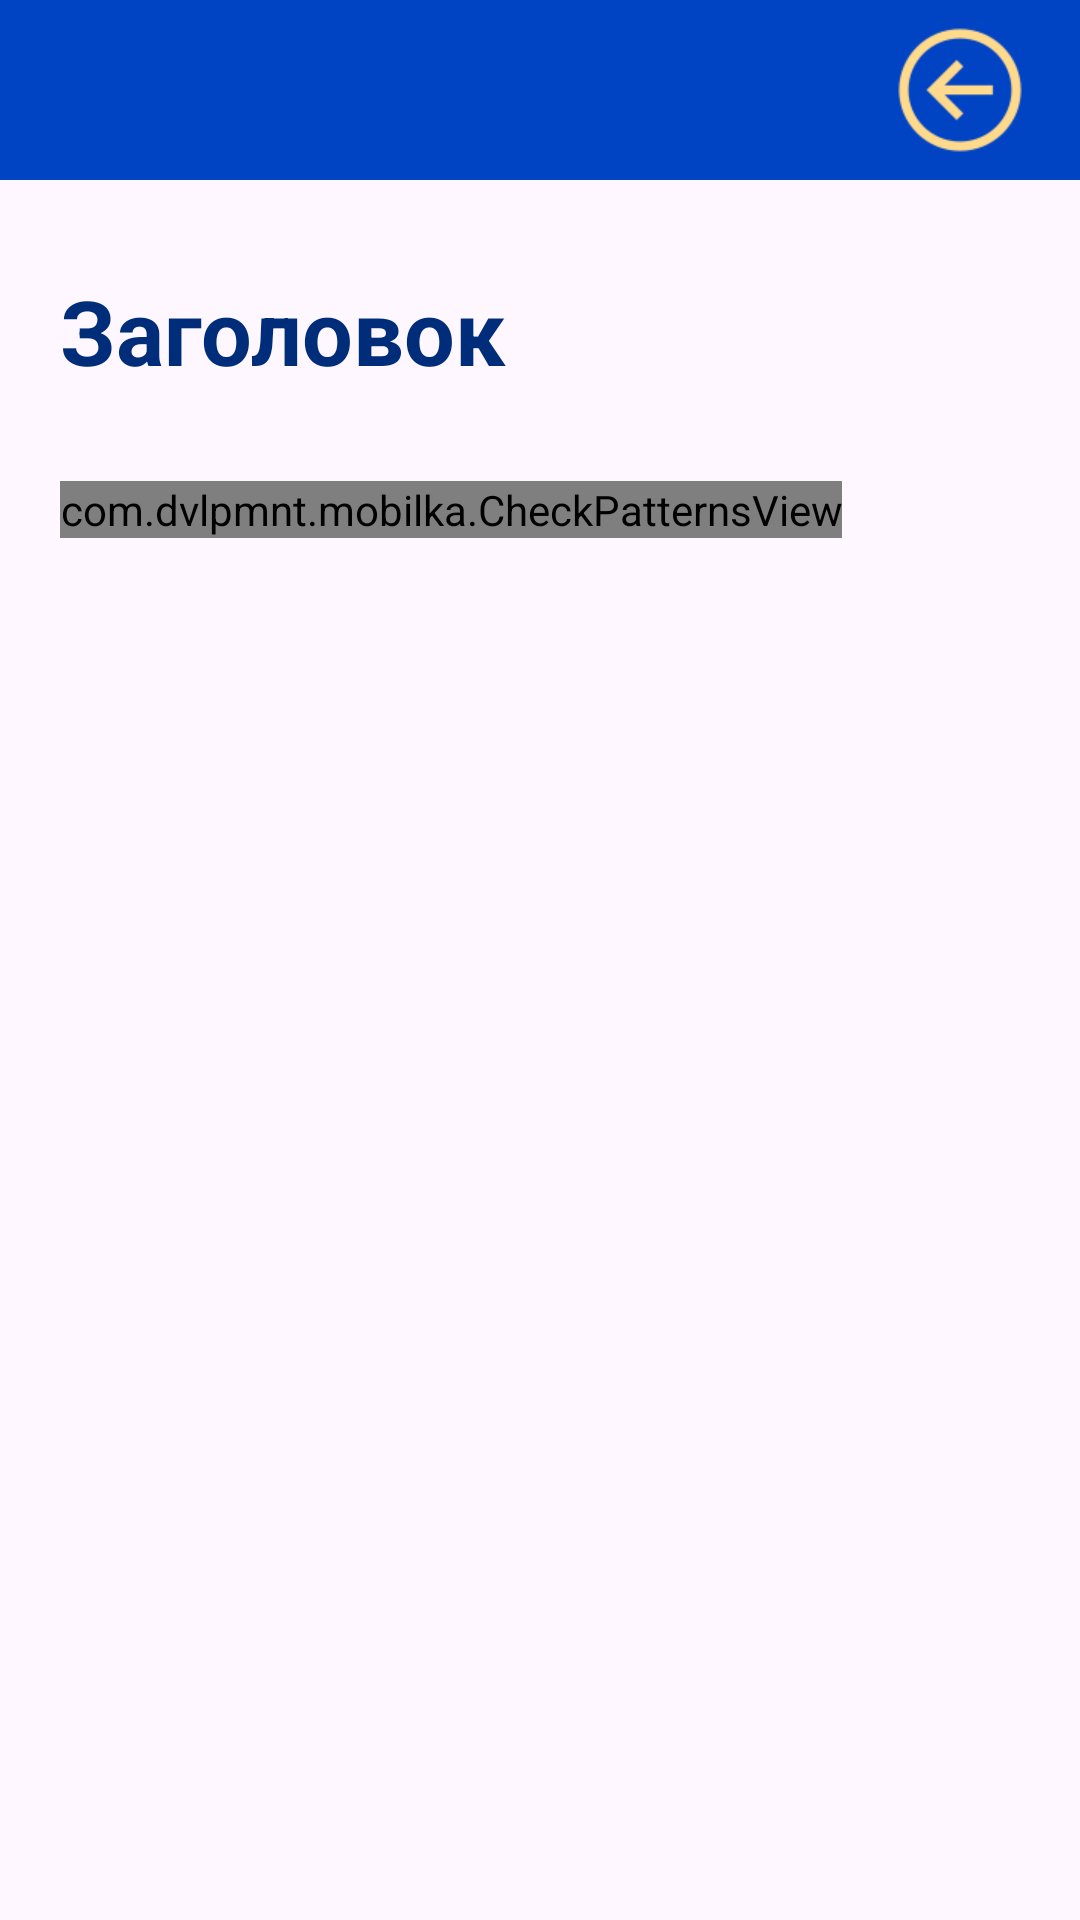

Icons on this 1080px×1920px Android screen, each with its box as (x1, y1, x2, y2):
back: (898, 28, 1022, 152)
